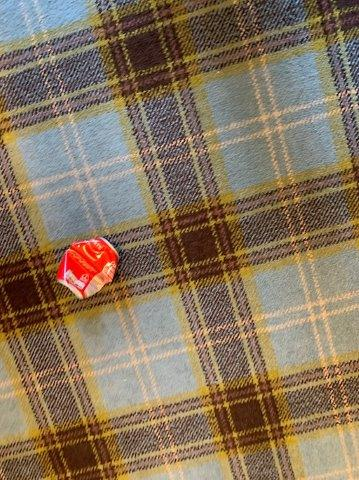kaleng: (56, 236, 120, 299)
